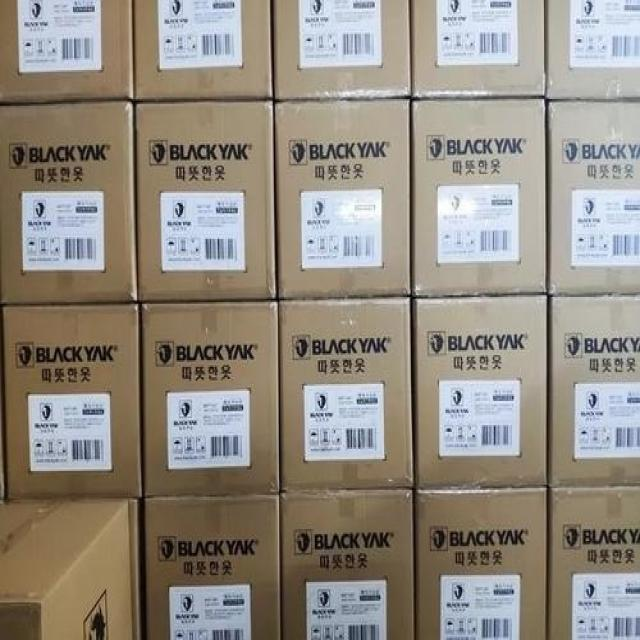box: (135, 101, 277, 302), (274, 98, 416, 299), (1, 98, 140, 303), (4, 303, 143, 499), (416, 290, 549, 491), (413, 97, 548, 295), (142, 300, 278, 495), (279, 299, 415, 494), (142, 495, 282, 638), (280, 490, 415, 638), (415, 490, 548, 638), (545, 94, 639, 297), (0, 496, 135, 637), (549, 294, 639, 488), (272, 1, 413, 99), (549, 484, 638, 638), (134, 2, 272, 97), (1, 2, 135, 99), (412, 2, 547, 93), (545, 2, 639, 96), (129, 498, 142, 638)
